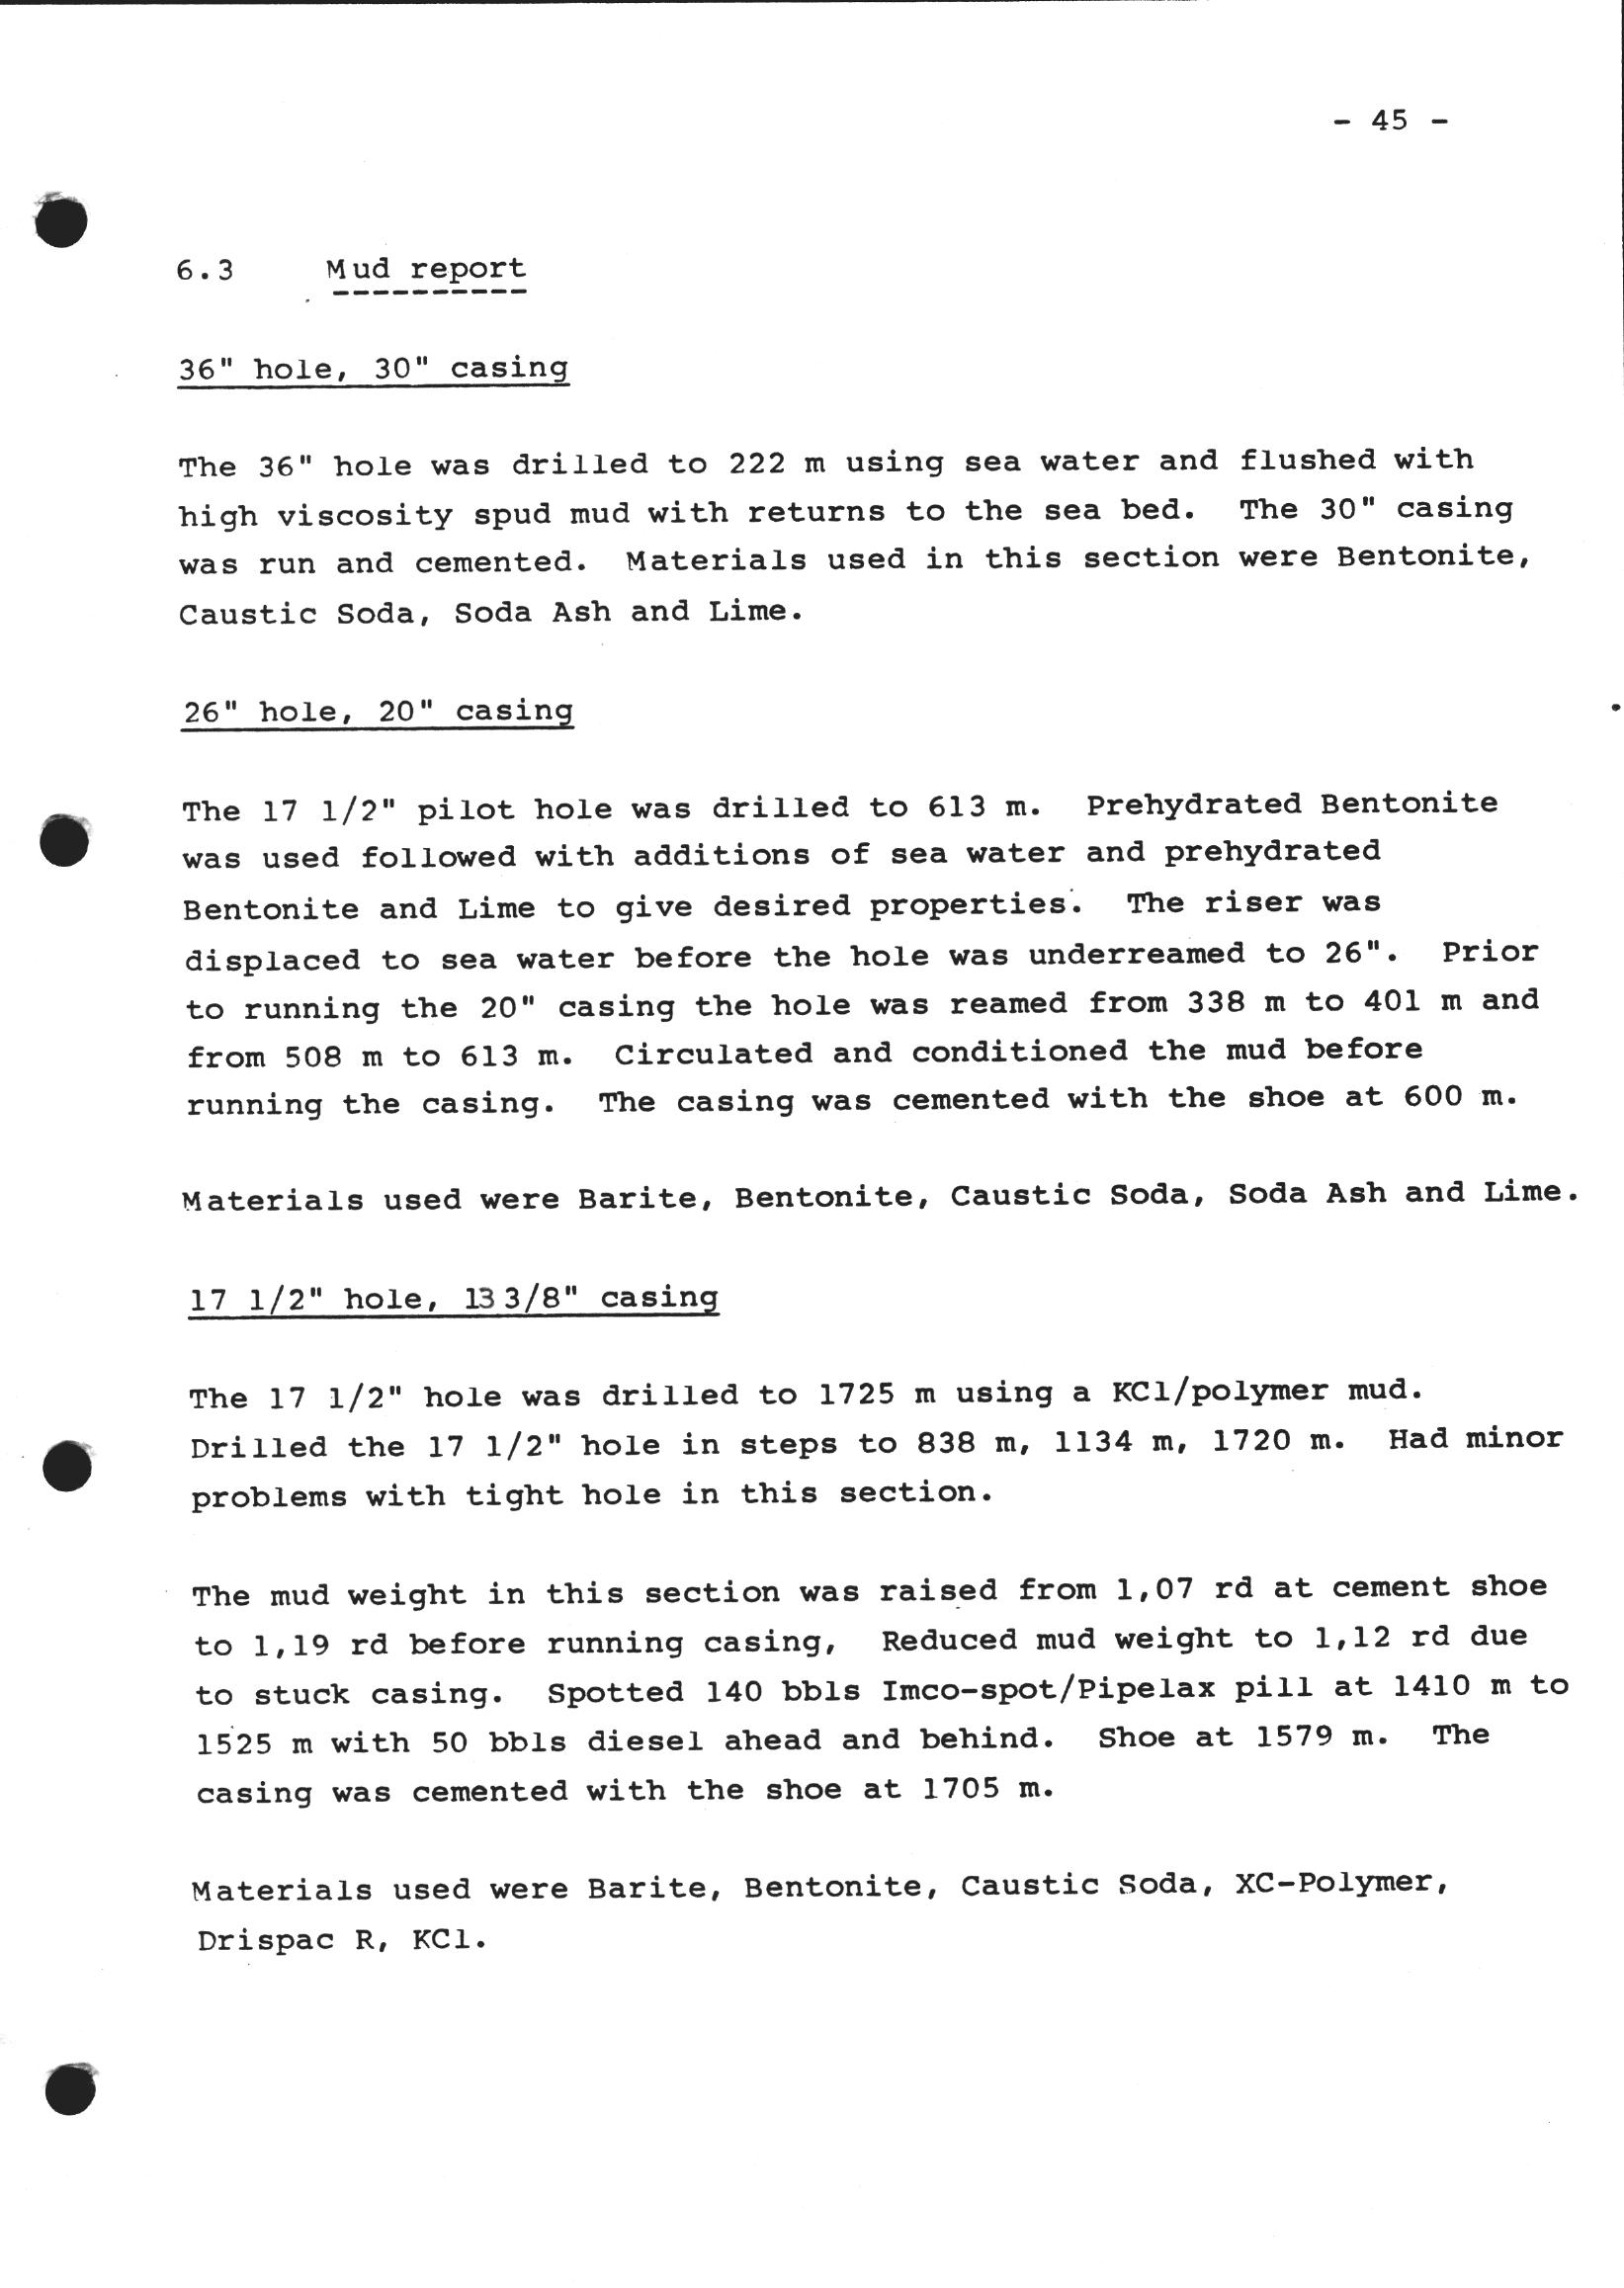text: (148, 232, 1624, 2005)
